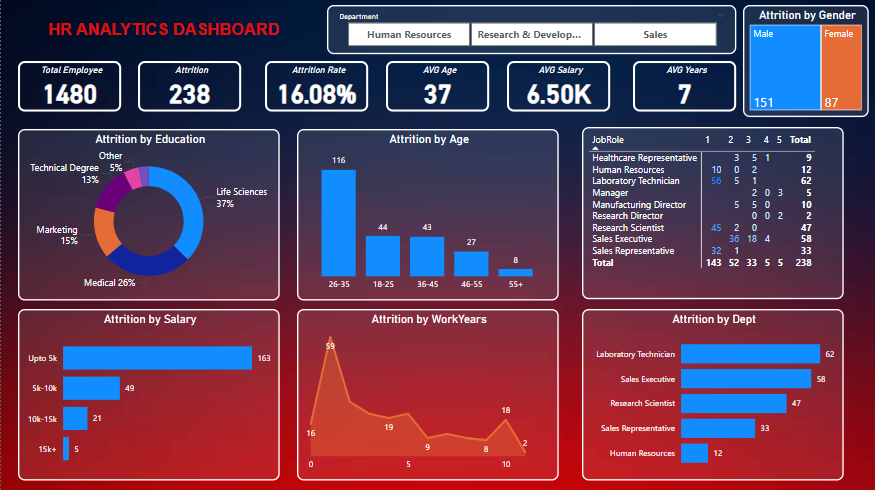

This screenshot's page, from the dashboard's own definition file:
{"tool":"powerbi","page":{"name":"Page 1","canvas":[1280,720],"ordinal":0},"visuals":[{"type":"card","title":"Total Employee ","fields":{"Values":["Sum(HR_Analytics.EmployeeCount)"]},"box":[25.4,91.4,150.7,74.5],"z":0},{"type":"card","title":"Attrition","fields":{"Values":["Sum(HR_Analytics.AttritionCount)"]},"box":[199.8,91.4,150.7,74.5],"z":1000},{"type":"card","title":"Attrition Rate","fields":{"Values":["HR_Analytics.AttritonRate"]},"box":[386,91.4,150.7,74.5],"z":2000},{"type":"card","title":"AVG Age","fields":{"Values":["Avg(HR_Analytics.Age)"]},"box":[563.8,91.4,150.7,74.5],"z":2001},{"type":"card","title":"AVG Salary","fields":{"Values":["Avg(HR_Analytics.MonthlyIncome)"]},"box":[739.9,91.4,150.7,74.5],"z":2002},{"type":"card","title":"AVG Years","fields":{"Values":["Avg(HR_Analytics.YearsAtCompany)"]},"box":[924.4,91.4,150.7,74.5],"z":2003},{"type":"donutChart","title":"Attrition by Education","fields":{"Category":["HR_Analytics.EducationField"],"Y":["Sum(HR_Analytics.AttritionCount)"]},"box":[25.4,189.6,382.6,250.6],"z":2004},{"type":"columnChart","title":"Attrition by Age","fields":{"Category":["HR_Analytics.AgeGroup"],"Y":["Sum(HR_Analytics.AttritionCount)"]},"box":[433.4,189.6,382.6,250.6],"z":2005},{"type":"pivotTable","fields":{"Rows":["HR_Analytics.JobRole"],"Columns":["HR_Analytics.JobLevel"],"Values":["Sum(HR_Analytics.AttritionCount)"]},"box":[849.9,187.9,382.6,252.3],"z":2006},{"type":"barChart","title":"Attrition by Salary","fields":{"Category":["HR_Analytics.SalarySlab"],"Y":["Sum(HR_Analytics.AttritionCount)"]},"box":[25.4,453.8,382.6,250.6],"z":2007},{"type":"barChart","title":"Attrition by Dept","fields":{"Category":["HR_Analytics.JobRole"],"Y":["Sum(HR_Analytics.AttritionCount)"]},"box":[849.9,453.8,382.6,250.6],"z":2008},{"type":"areaChart","title":"Attrition by WorkYears","fields":{"Category":["HR_Analytics.YearsAtCompany"],"Y":["Sum(HR_Analytics.AttritionCount)"]},"box":[433.4,453.8,382.6,250.6],"z":2009},{"type":"treemap","title":"Attrition by Gender ","fields":{"Values":["Sum(HR_Analytics.AttritionCount)"],"Group":["HR_Analytics.Gender"]},"box":[1085.9,8.8,184.4,163.9],"z":2010},{"type":"slicer","fields":{"Values":["HR_Analytics.Department"]},"box":[477.1,8.8,598.5,71.7],"z":2011},{"type":"textbox","box":[52.2,9,409,71.6],"z":2012}]}

Visuals, with their boxes in screenshot pixels (x1, y1, x2, y2), scaled from the page's 1280x720 canvas onto the 875x490 screenshot:
"Total Employee " card: 17:62:120:113
"Attrition" card: 137:62:240:113
"Attrition Rate" card: 264:62:367:113
"AVG Age" card: 385:62:488:113
"AVG Salary" card: 506:62:609:113
"AVG Years" card: 632:62:735:113
"Attrition by Education" donutChart: 17:129:279:300
"Attrition by Age" columnChart: 296:129:558:300
pivotTable - HR_Analytics.JobRole x HR_Analytics.JobLevel: 581:128:843:300
"Attrition by Salary" barChart: 17:309:279:479
"Attrition by Dept" barChart: 581:309:843:479
"Attrition by WorkYears" areaChart: 296:309:558:479
"Attrition by Gender " treemap: 742:6:868:118
slicer - HR_Analytics.Department: 326:6:735:55
textbox: 36:6:315:55
